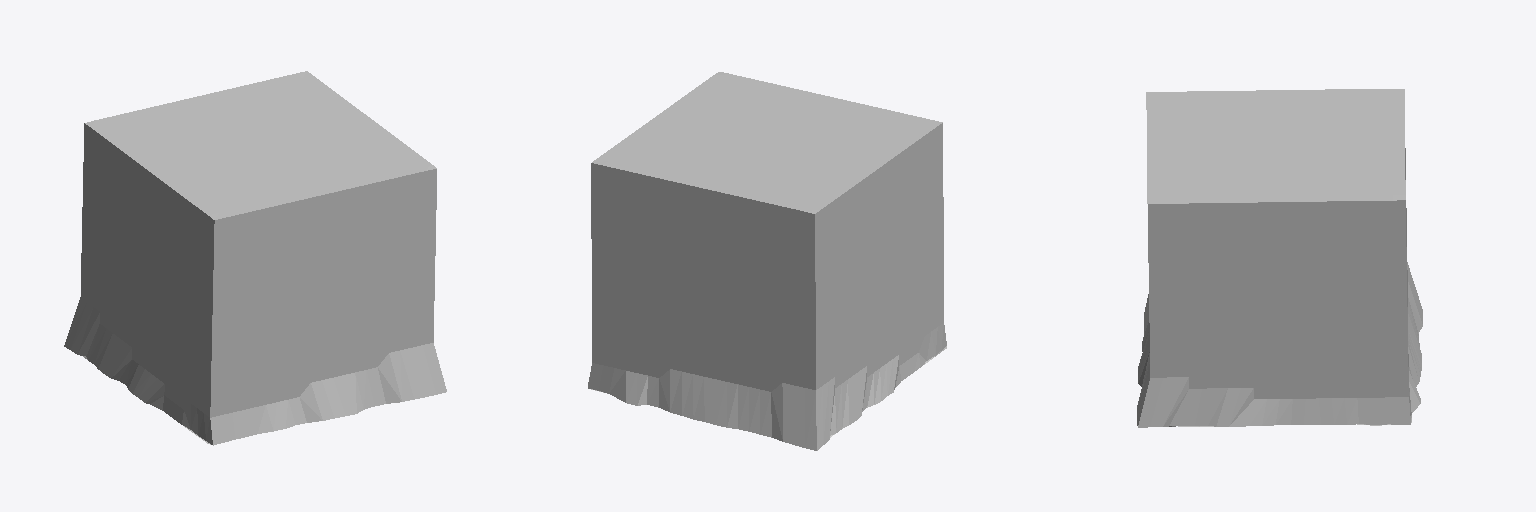
The model's file is mod0090.obj.
3 views of the same model, side by side, from view 1: azimuth 30°, elevation 25°; view 2: azimuth 150°, elevation 25°; view 3: azimuth 270°, elevation 25° (orthographic).
Parts seen in each view (by area): view 1: Box001; view 2: Box001; view 3: Box001.
Boxes of the visible parts, x1=… form: Box001: x1=64, y1=71, x2=446, y2=445; Box001: x1=588, y1=72, x2=946, y2=450; Box001: x1=1137, y1=89, x2=1422, y2=427.
Bounding box in the file's own units: 0.5799 × 0.5254 × 0.5979.